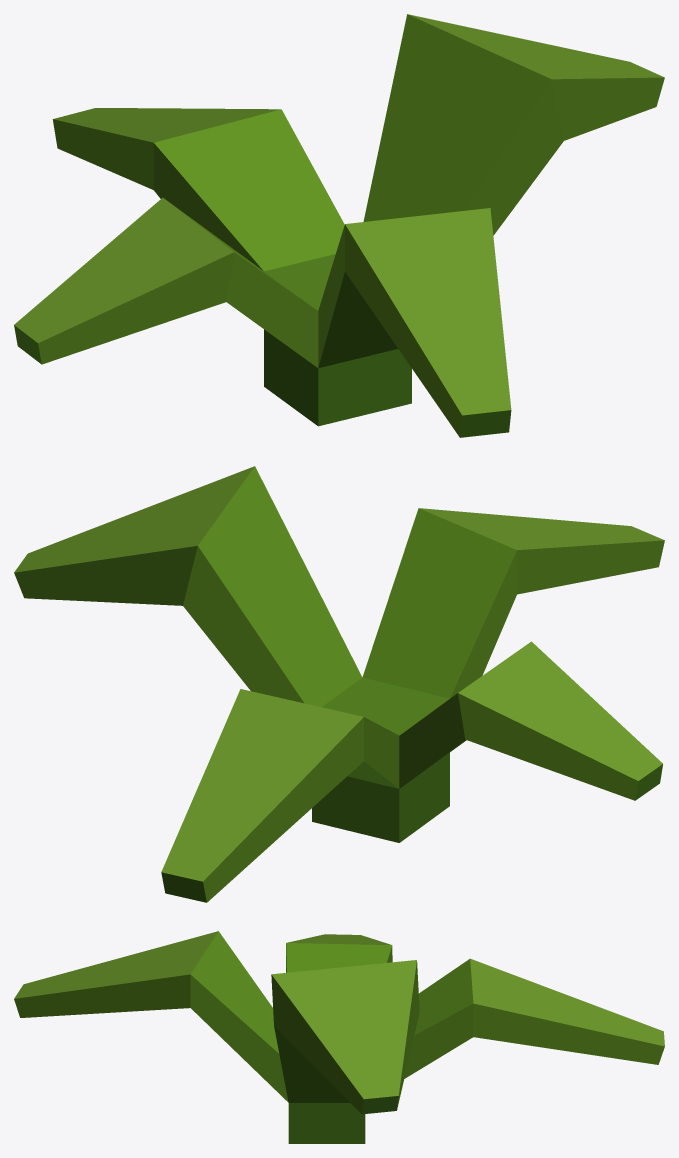
File: ST_Prop_Plant_04.fbx
3 renders of one model, top to bottom at view 1: azimuth 30°, elevation 25°; view 2: azimuth 150°, elevation 25°; view 3: azimuth 270°, elevation 25°, orthographic. The views are drawn at different scales.
Parts seen in each view (by area): view 1: ST_Prop_Plant_04; view 2: ST_Prop_Plant_04; view 3: ST_Prop_Plant_04.
Boxes of the visible parts, bbox=[...] form: ST_Prop_Plant_04: bbox=[14, 14, 664, 437]; ST_Prop_Plant_04: bbox=[14, 466, 664, 902]; ST_Prop_Plant_04: bbox=[14, 931, 664, 1143].
Bounding box in the file's own units: 1.05 × 0.4619 × 1.28.
